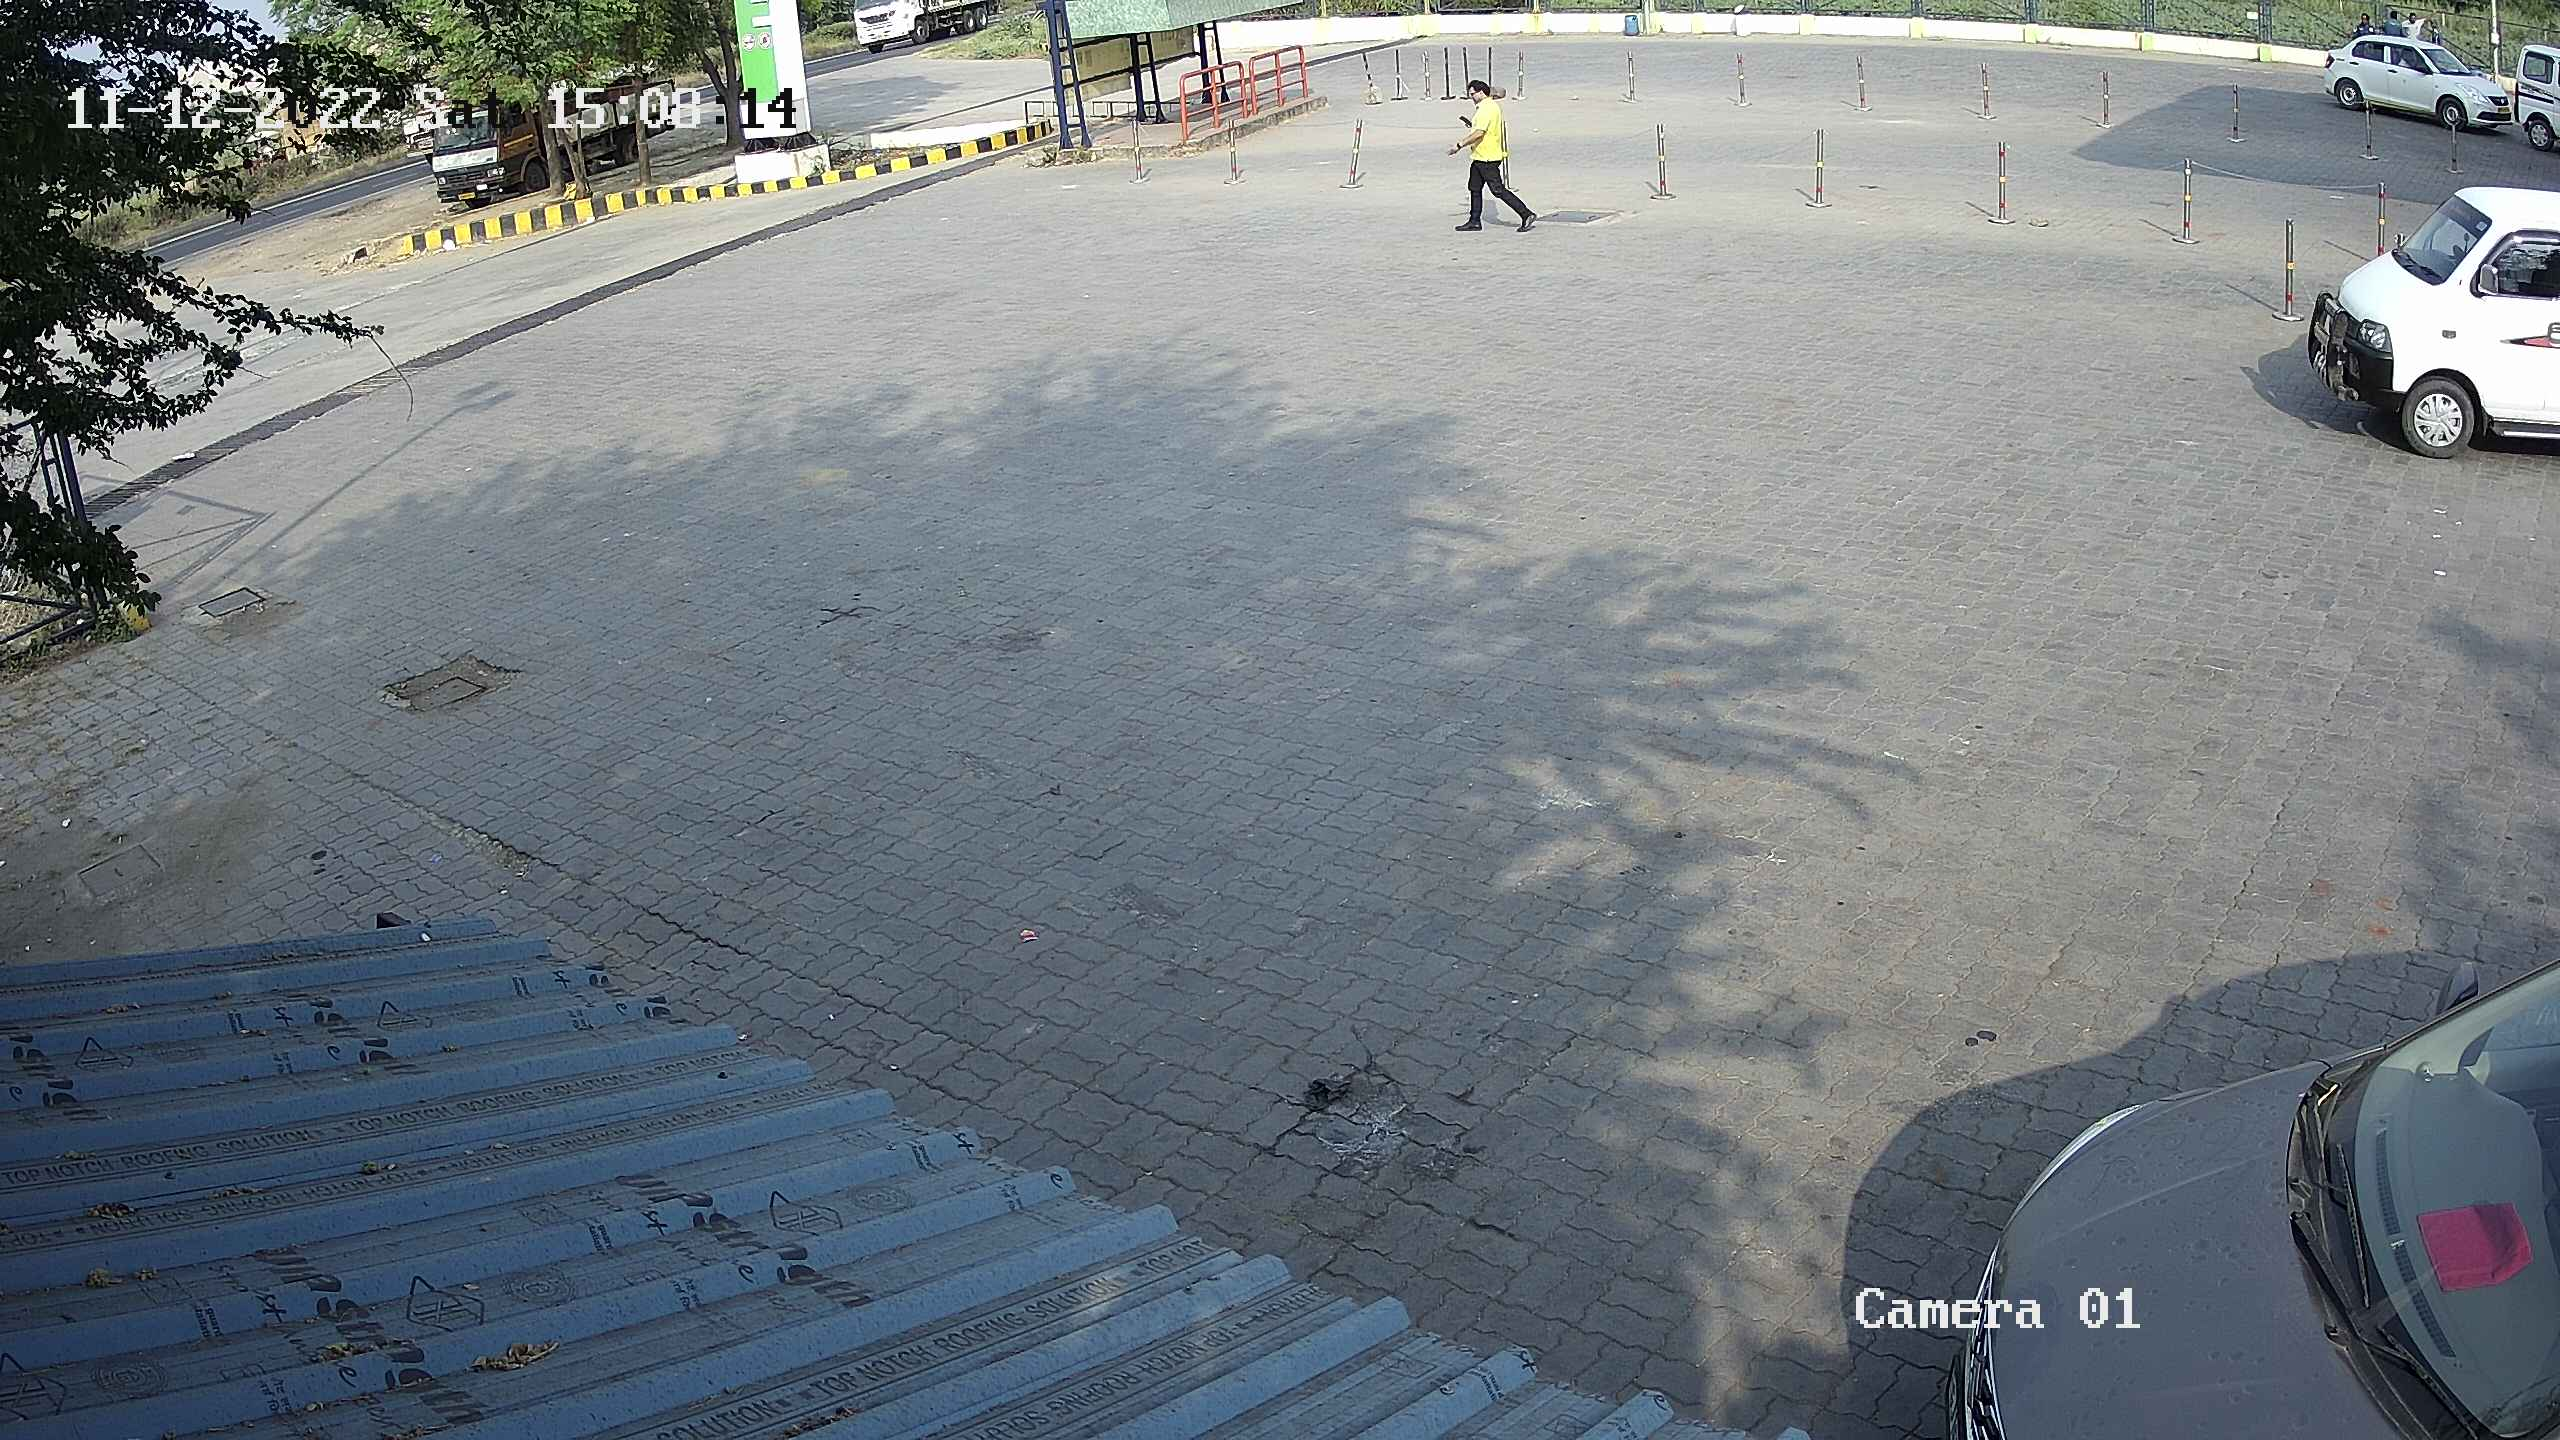Car: (1925, 927, 2556, 1435), (2287, 179, 2558, 473), (2314, 9, 2520, 142), (2491, 23, 2560, 171)
HMV: (411, 63, 557, 222), (840, 0, 1006, 62)
